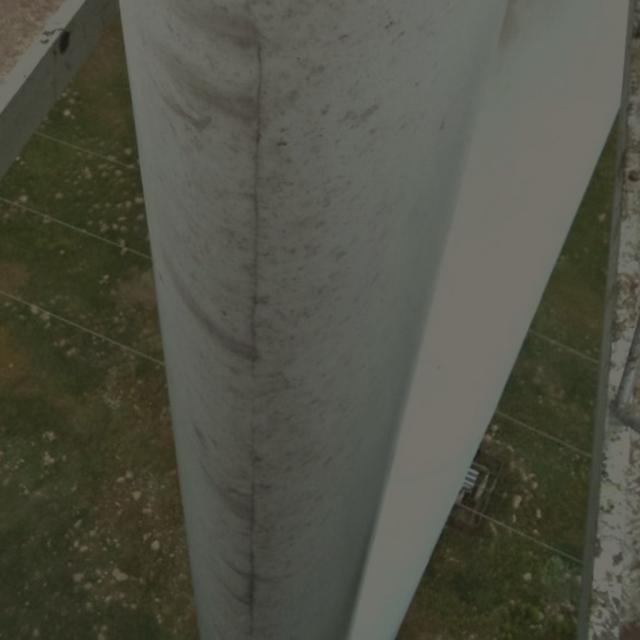crack: (243, 44, 268, 369), (245, 448, 264, 635)
